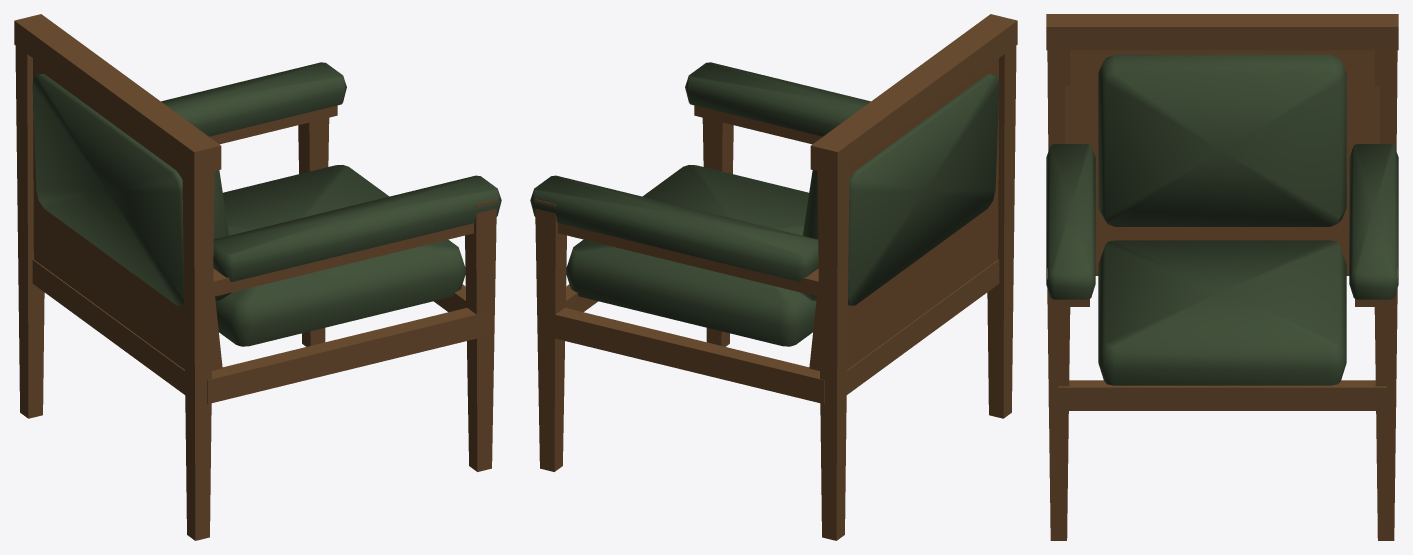
Rendered from parametric-armchair-1st-pub.glb.
3 views of the same model, side by side, from view 1: azimuth 30°, elevation 25°; view 2: azimuth 150°, elevation 25°; view 3: azimuth 270°, elevation 25° (orthographic). The views are drawn at different scales.
Parts seen in each view (by area): view 1: parametric-armchair-1st-pub; view 2: parametric-armchair-1st-pub; view 3: parametric-armchair-1st-pub.
Boxes of the visible parts, left/top/right/bottom form: parametric-armchair-1st-pub: left=14, top=14, right=501, bottom=540; parametric-armchair-1st-pub: left=530, top=14, right=1017, bottom=540; parametric-armchair-1st-pub: left=1046, top=14, right=1398, bottom=540.
Bounding box in the file's own units: 0.75 × 0.9 × 0.75.
